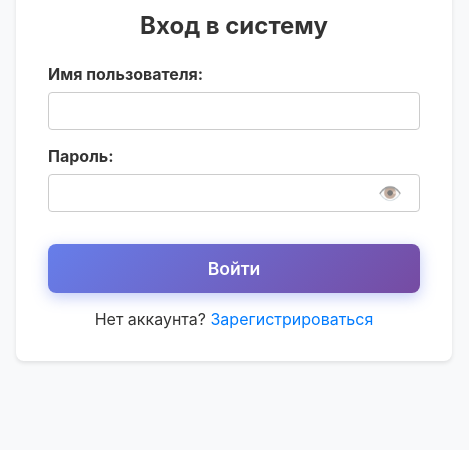
Test: Login Component › shows error on failed login
In the field labelled "Имя пользователя:": (234,111) [48, 92, 420, 130], type "testuser"
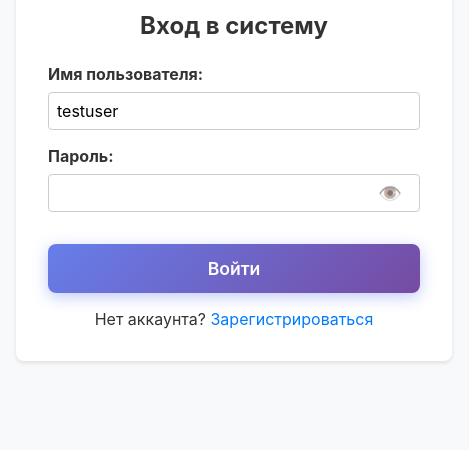
In the password field labelled "Пароль:": (234,193) [48, 174, 420, 212], type "wrongpassword"
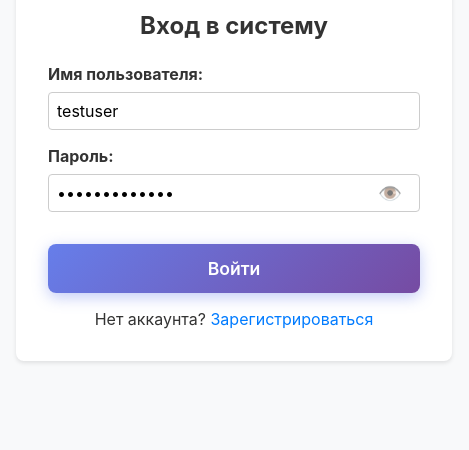
Click the button "Войти": (234,268) [48, 244, 420, 293]
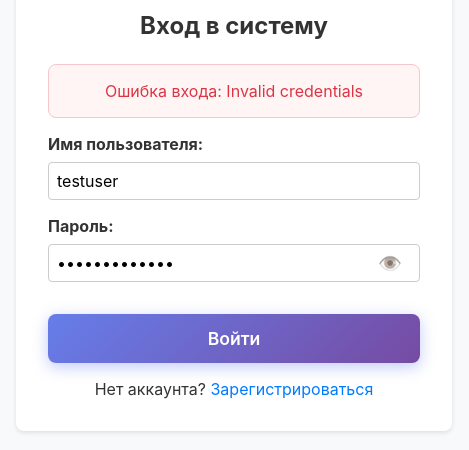
Now the text "Ошибка входа: Invalid credentials" is shown, box [48, 64, 420, 118]
